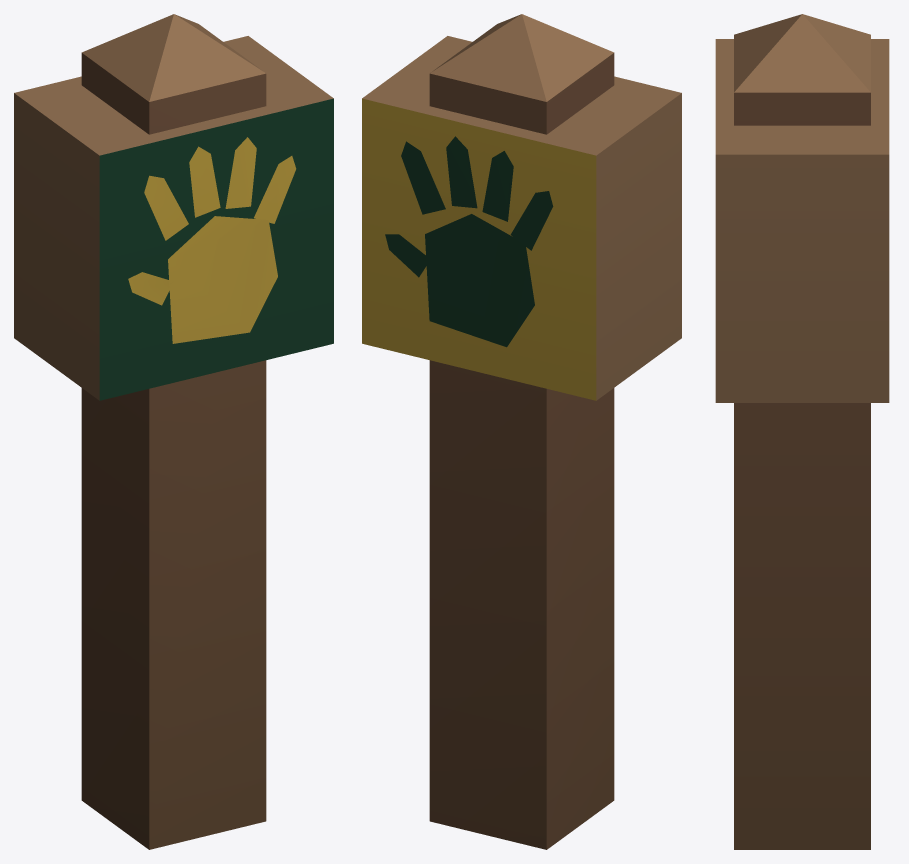
The model's file is custom-marco-trilha.glb.
3 renders of one model, left to right at view 1: azimuth 30°, elevation 25°; view 2: azimuth 150°, elevation 25°; view 3: azimuth 270°, elevation 25°, orthographic.
Parts seen in each view (by area): view 1: marco-trilha; view 2: marco-trilha; view 3: marco-trilha.
Boxes of the visible parts, x1,y1,x2,y2 form: marco-trilha: (14, 14, 333, 849); marco-trilha: (362, 14, 681, 849); marco-trilha: (715, 14, 889, 849).
Bounding box in the file's own units: 0.6 × 1.95 × 0.404.
